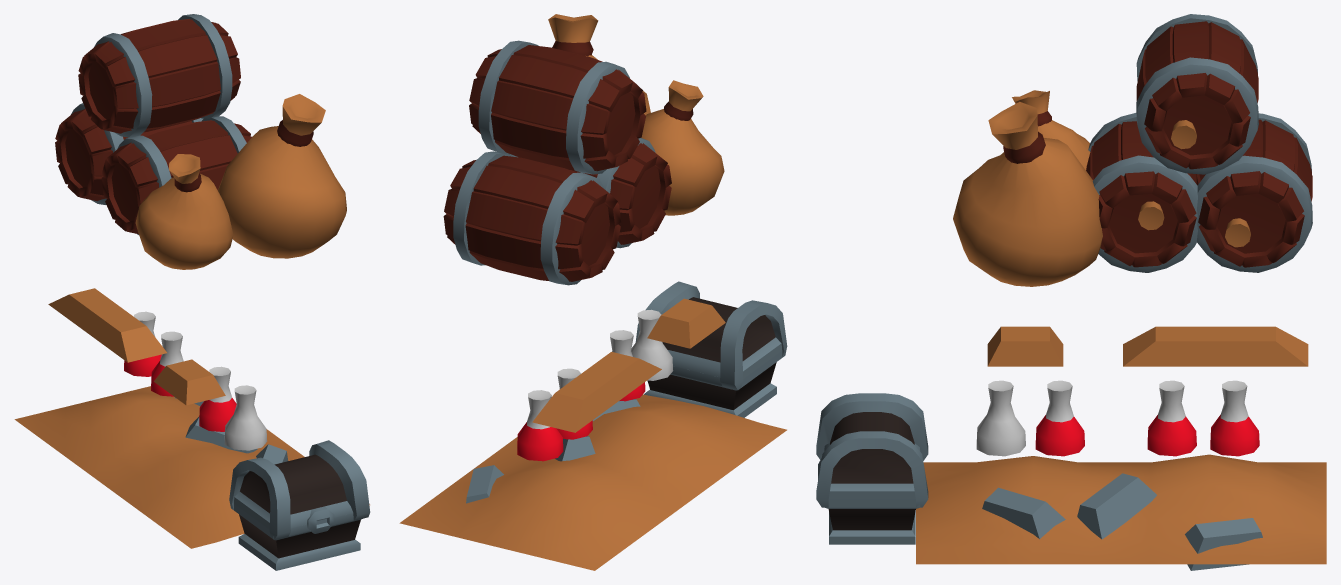
Rendered from wagonCargo.obj.
The picture shows the model from 3 angles, left to right: view 1: azimuth 30°, elevation 25°; view 2: azimuth 150°, elevation 25°; view 3: azimuth 270°, elevation 25°; orthographic projection. The views are drawn at different scales.
Parts seen in each view (by area): view 1: wagonCargo_Cube.5958; view 2: wagonCargo_Cube.5958; view 3: wagonCargo_Cube.5958.
Boxes of the visible parts, x1,y1,x2,y2 form: wagonCargo_Cube.5958: [14, 14, 370, 570]; wagonCargo_Cube.5958: [399, 14, 787, 570]; wagonCargo_Cube.5958: [816, 14, 1326, 570].
Size of the model in its own units: 1.19 by 2.46 by 2.3.
